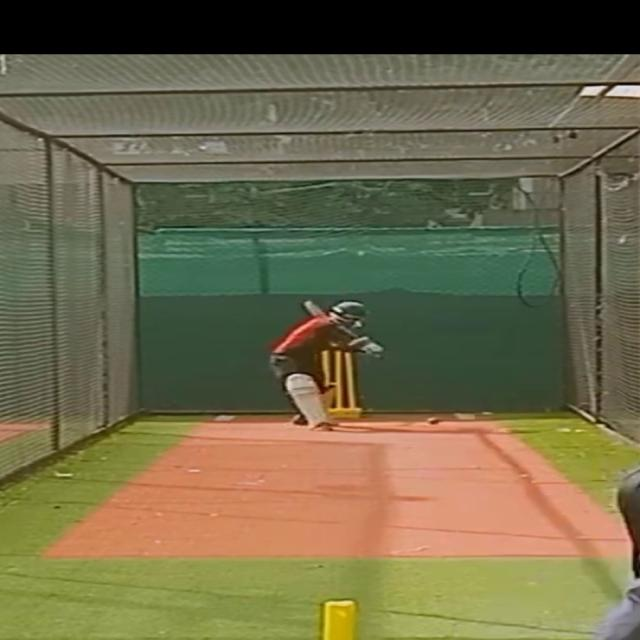ball: (424, 414, 447, 427)
stump: (321, 350, 365, 420)
